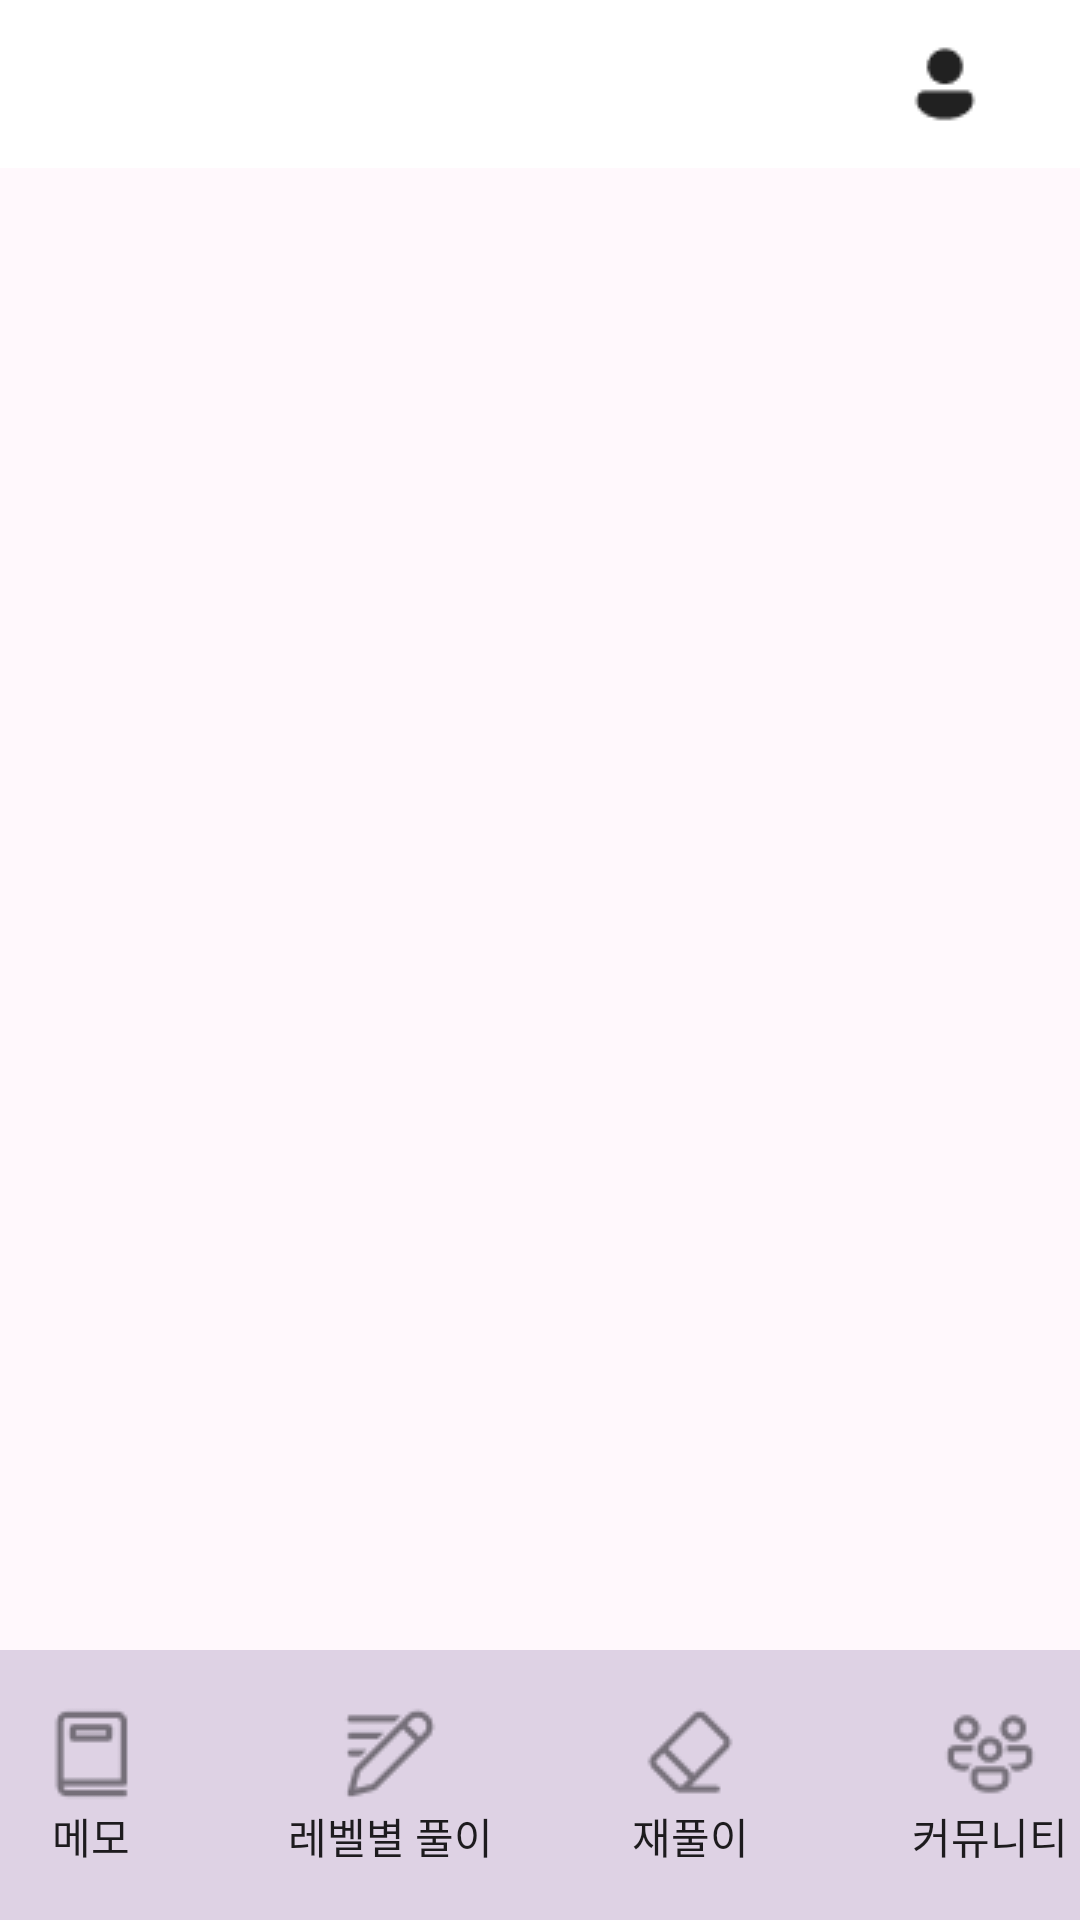

Screen size 1080 × 1920. Icon name, then its box in pixels as (x1, y1, x2, y2):
mypage: (914, 47, 976, 121)
